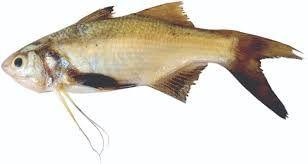Fourfinger Threadfish: (3, 1, 304, 121)
